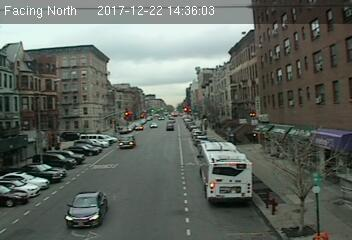bus: (198, 143, 255, 204)
car: (65, 189, 109, 229), (117, 134, 137, 149)
